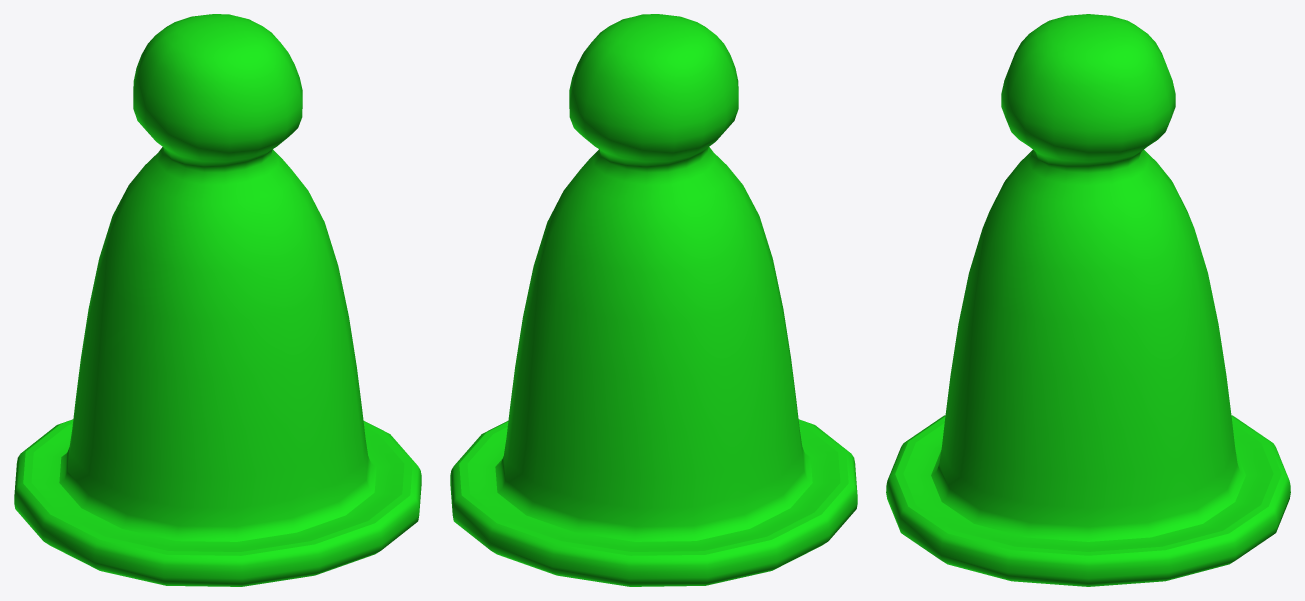
The model's file is Jugador3gcw.glb.
3 views of the same model, side by side, from view 1: azimuth 30°, elevation 25°; view 2: azimuth 150°, elevation 25°; view 3: azimuth 270°, elevation 25° (orthographic).
Visible parts, largest first — view 1: k1.002; view 2: k1.002; view 3: k1.002.
Part boxes in pixels (<box>): k1.002: <box>14,14,421,586</box>; k1.002: <box>450,14,857,586</box>; k1.002: <box>886,14,1290,586</box>.
Size of the model in its own units: 0.6931 by 0.9252 by 0.6931.
